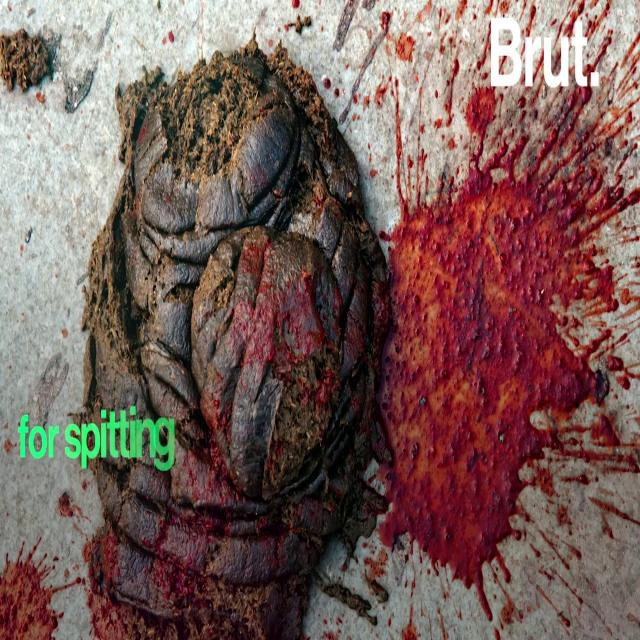spit: (382, 140, 610, 604)
